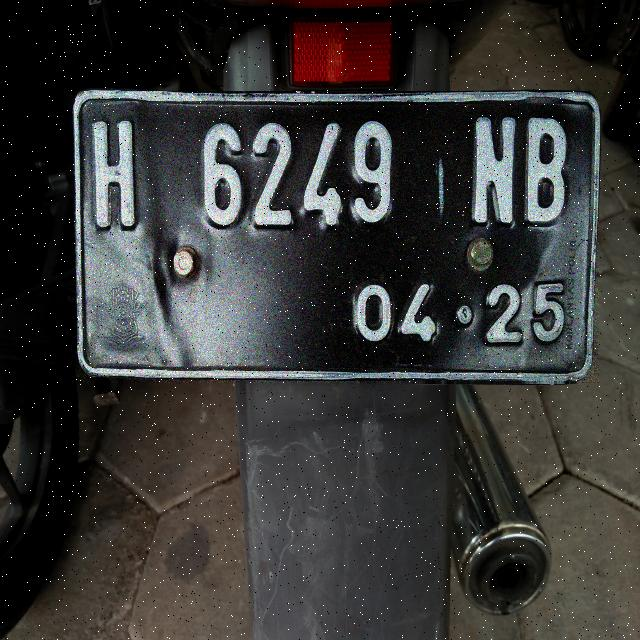plate: (75, 91, 598, 381)
